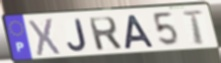5: (150, 11, 181, 48)
A: (124, 14, 156, 50)
J: (66, 18, 88, 53)
R: (87, 16, 124, 53)
T: (181, 9, 207, 46)
X: (27, 17, 63, 58)
